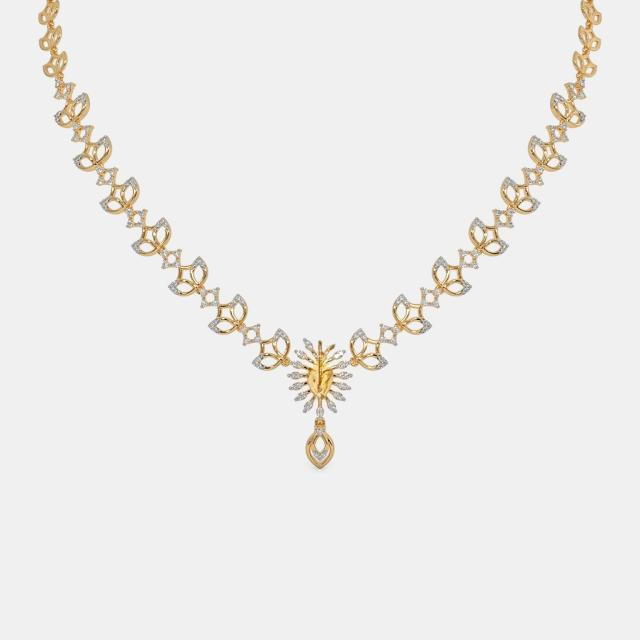missing gem: (309, 351, 332, 398), (328, 344, 335, 351), (318, 340, 322, 349)
